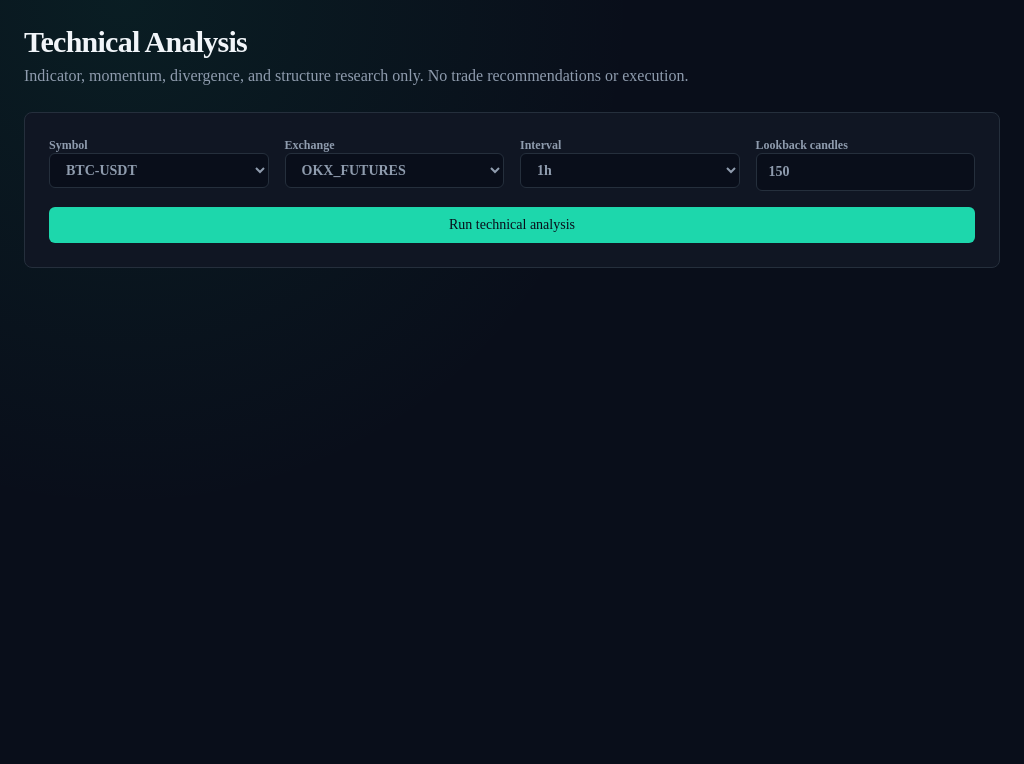
Test case: TechnicalAnalysisPage › runs and displays structured technical conditions
Click the button "Run technical analysis": {"x": 512, "y": 225} [49,207,975,243]
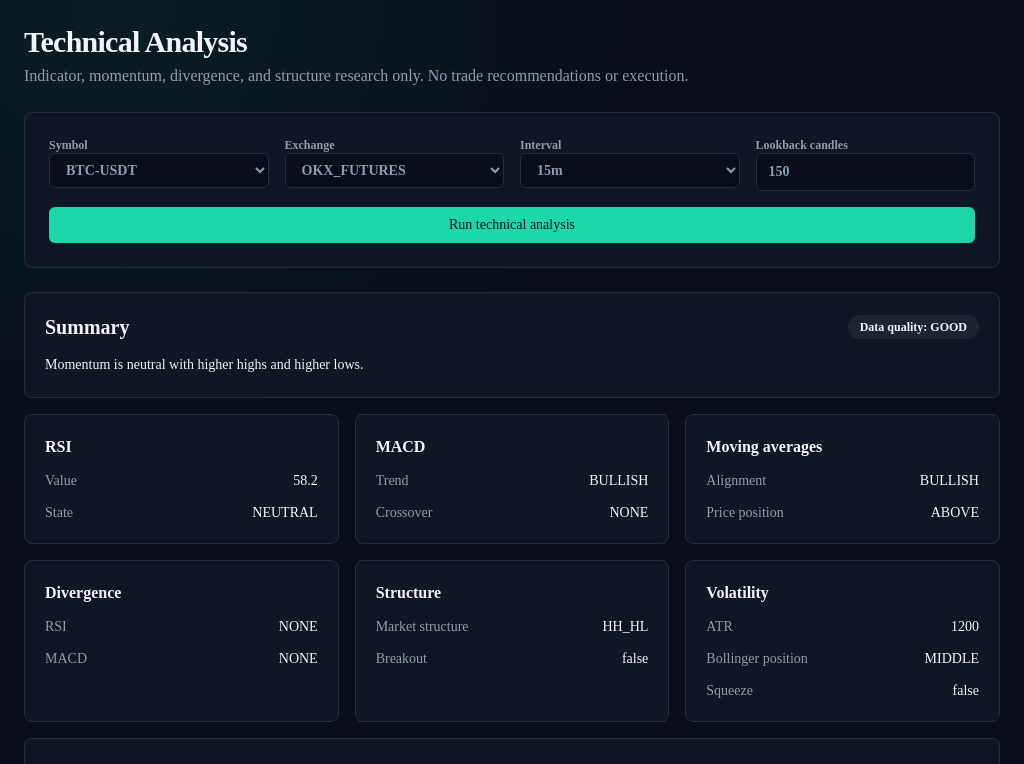
expect the text "Momentum is neutral with higher highs and higher lows." is shown: met, box [45,357,364,372]
expect the heading "RSI" is shown: met, box [45,438,72,455]
expect the heading "MACD" is shown: met, box [376,438,426,455]
